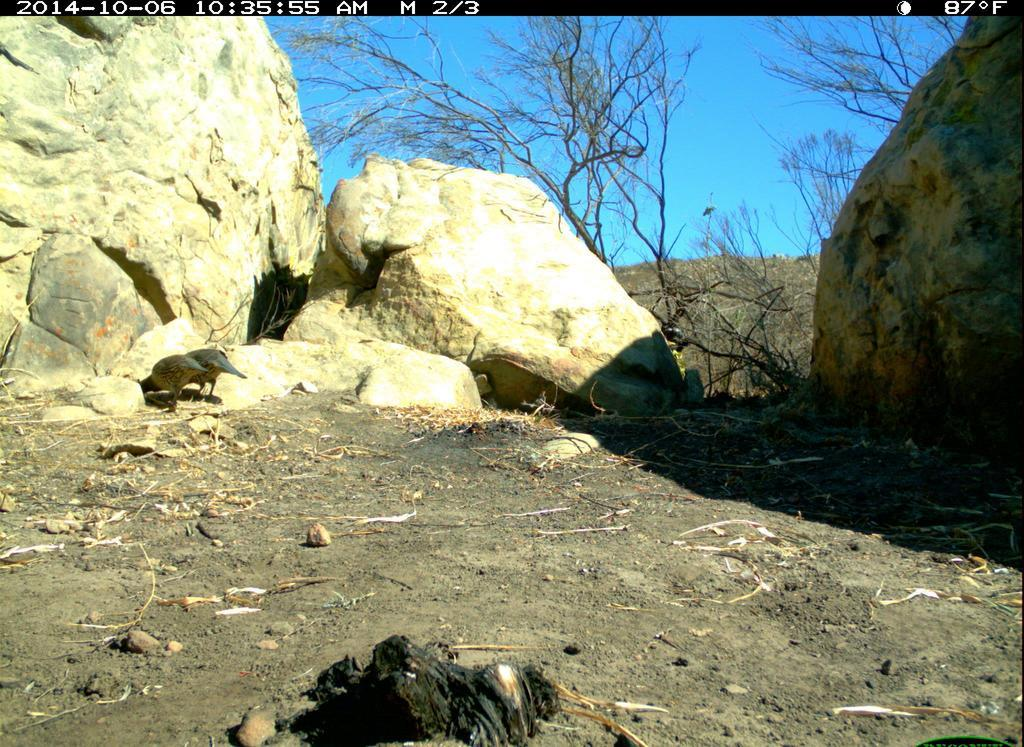bird: (185, 341, 246, 417), (135, 355, 214, 413)
